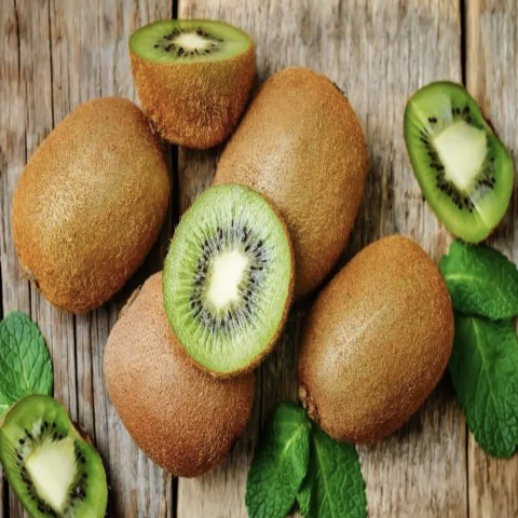kiwi: (199, 50, 372, 308), (1, 98, 192, 322), (88, 240, 263, 481), (297, 223, 471, 463)
